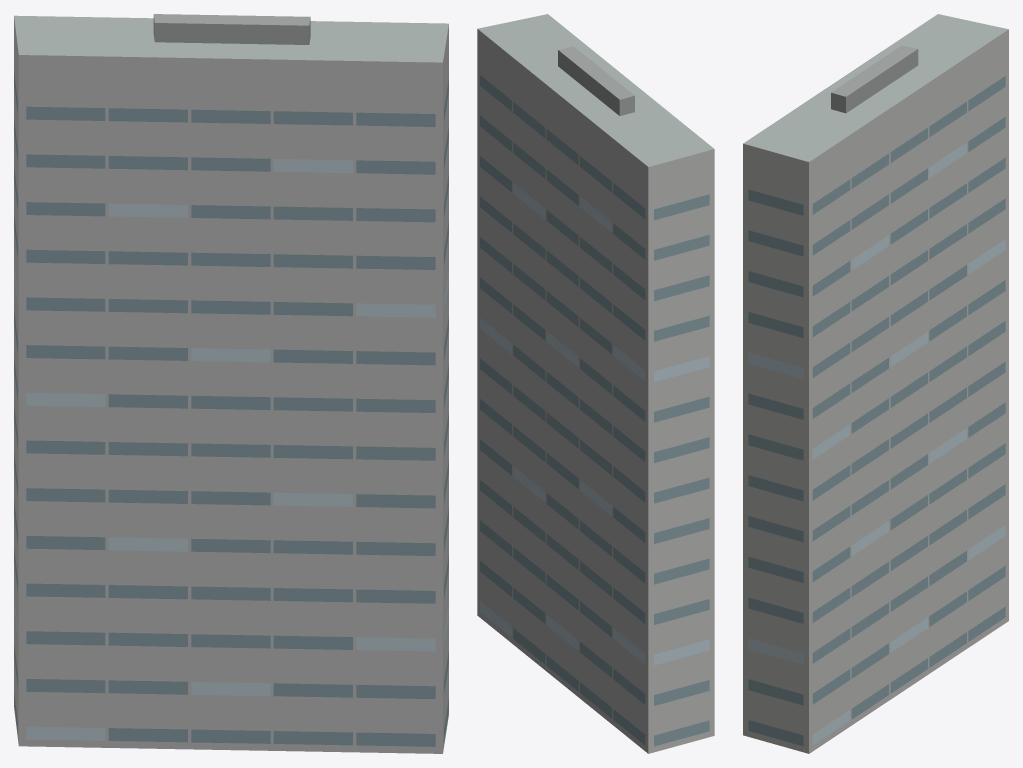
The model's file is fallback-jamsil-ricenz-215.glb.
3 views of the same model, side by side, from view 1: azimuth 30°, elevation 25°; view 2: azimuth 150°, elevation 25°; view 3: azimuth 270°, elevation 25° (orthographic). The views are drawn at different scales.
Visible parts, largest first — view 1: fallback-jamsil-ricenz-215; view 2: fallback-jamsil-ricenz-215; view 3: fallback-jamsil-ricenz-215.
Part boxes in pixels (<box>): fallback-jamsil-ricenz-215: <box>14,14,448,753</box>; fallback-jamsil-ricenz-215: <box>477,14,714,753</box>; fallback-jamsil-ricenz-215: <box>743,14,1008,753</box>.
Size of the model in its own units: 45.98 by 88 by 34.84.
